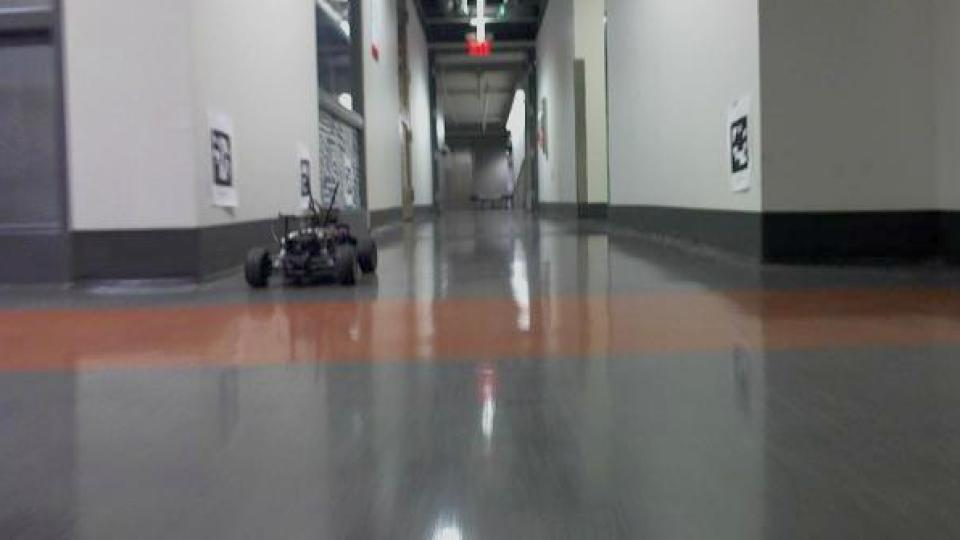car: (238, 176, 378, 293)
